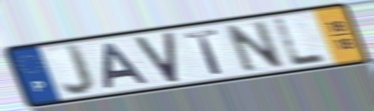A: (103, 41, 153, 90)
J: (60, 43, 98, 98)
L: (272, 16, 331, 68)
N: (222, 18, 288, 75)
T: (182, 27, 227, 77)
V: (132, 30, 183, 85)
